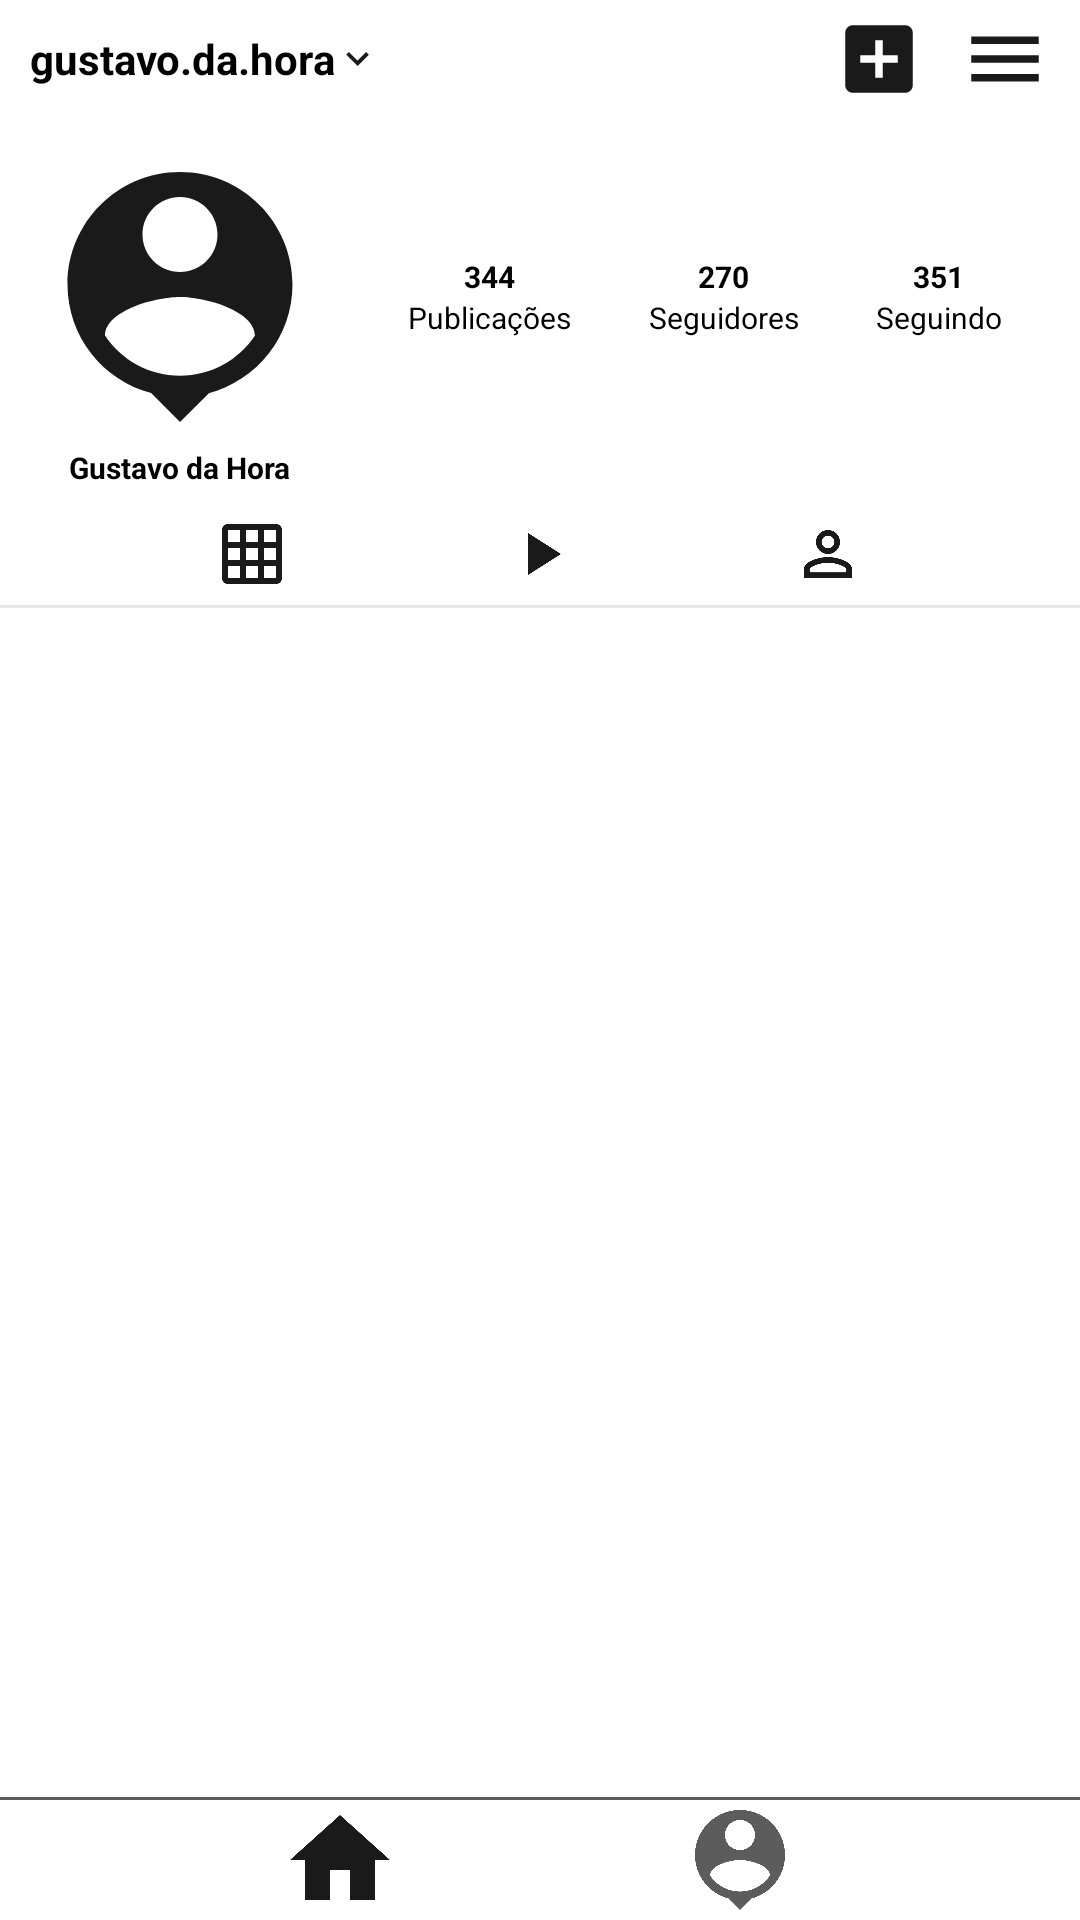

Point at icon controls on the screen. Image size 1080*1920, points as (x=x, y=y).
Grid icon: (x=252, y=554)
Home Button: (x=340, y=1857)
person: (x=828, y=554)
Person icon to change screen: (x=740, y=1860)
person pin: (x=180, y=297)
Play button icon: (x=544, y=554)
